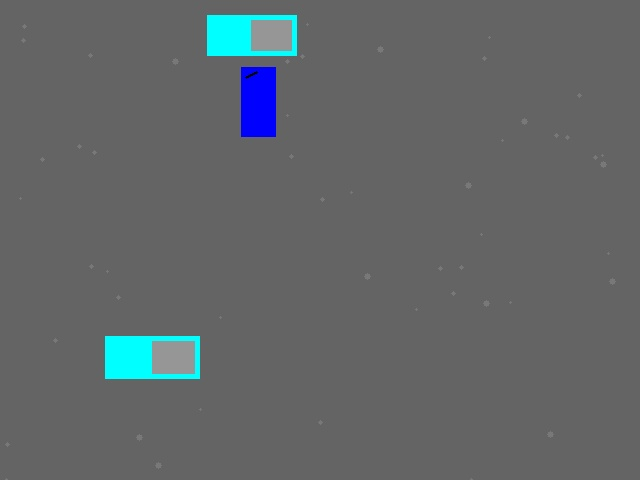motorcycle: (241, 67, 275, 136)
truck: (105, 336, 199, 378), (207, 15, 296, 55)
